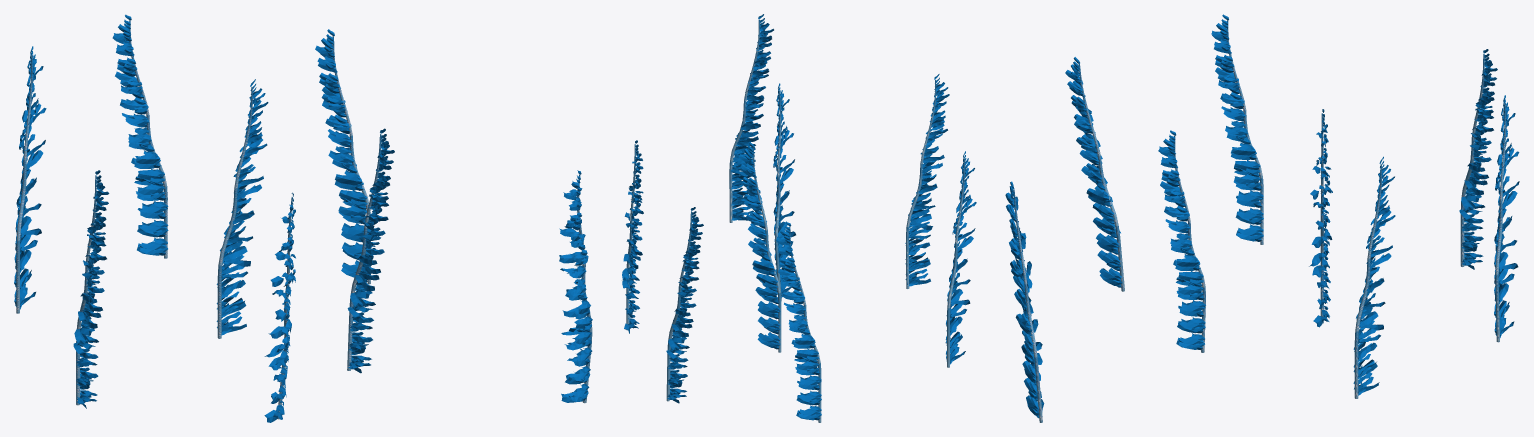
The model's file is kelpModel.gltf.
3 views of the same model, side by side, from view 1: azimuth 30°, elevation 25°; view 2: azimuth 150°, elevation 25°; view 3: azimuth 270°, elevation 25° (orthographic). The views are drawn at different scales.
Visible parts, largest first — view 1: 75-150 (Copy).1 (Copy) (×8), Stem (×4); view 2: 75-150 (Copy).1 (Copy) (×8), Stem (×8); view 3: 75-150 (Copy).1 (Copy) (×8), Stem (×7).
Part boxes in pixels (x1,y1,x2,y2): 75-150 (Copy).1 (Copy) (×8): [14, 14, 592, 422]; Stem (×4): [16, 55, 381, 405]; 75-150 (Copy).1 (Copy) (×8): [622, 14, 976, 420]; Stem (×8): [626, 19, 964, 422]; 75-150 (Copy).1 (Copy) (×8): [1005, 14, 1519, 418]; Stem (×7): [1013, 20, 1505, 422].
Bounding box in the file's own units: 17.02 × 10.56 × 20.3.
1 material, 1 textured.
